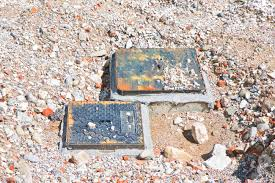Manhole-Closed: (105, 46, 212, 97), (62, 99, 149, 155)
